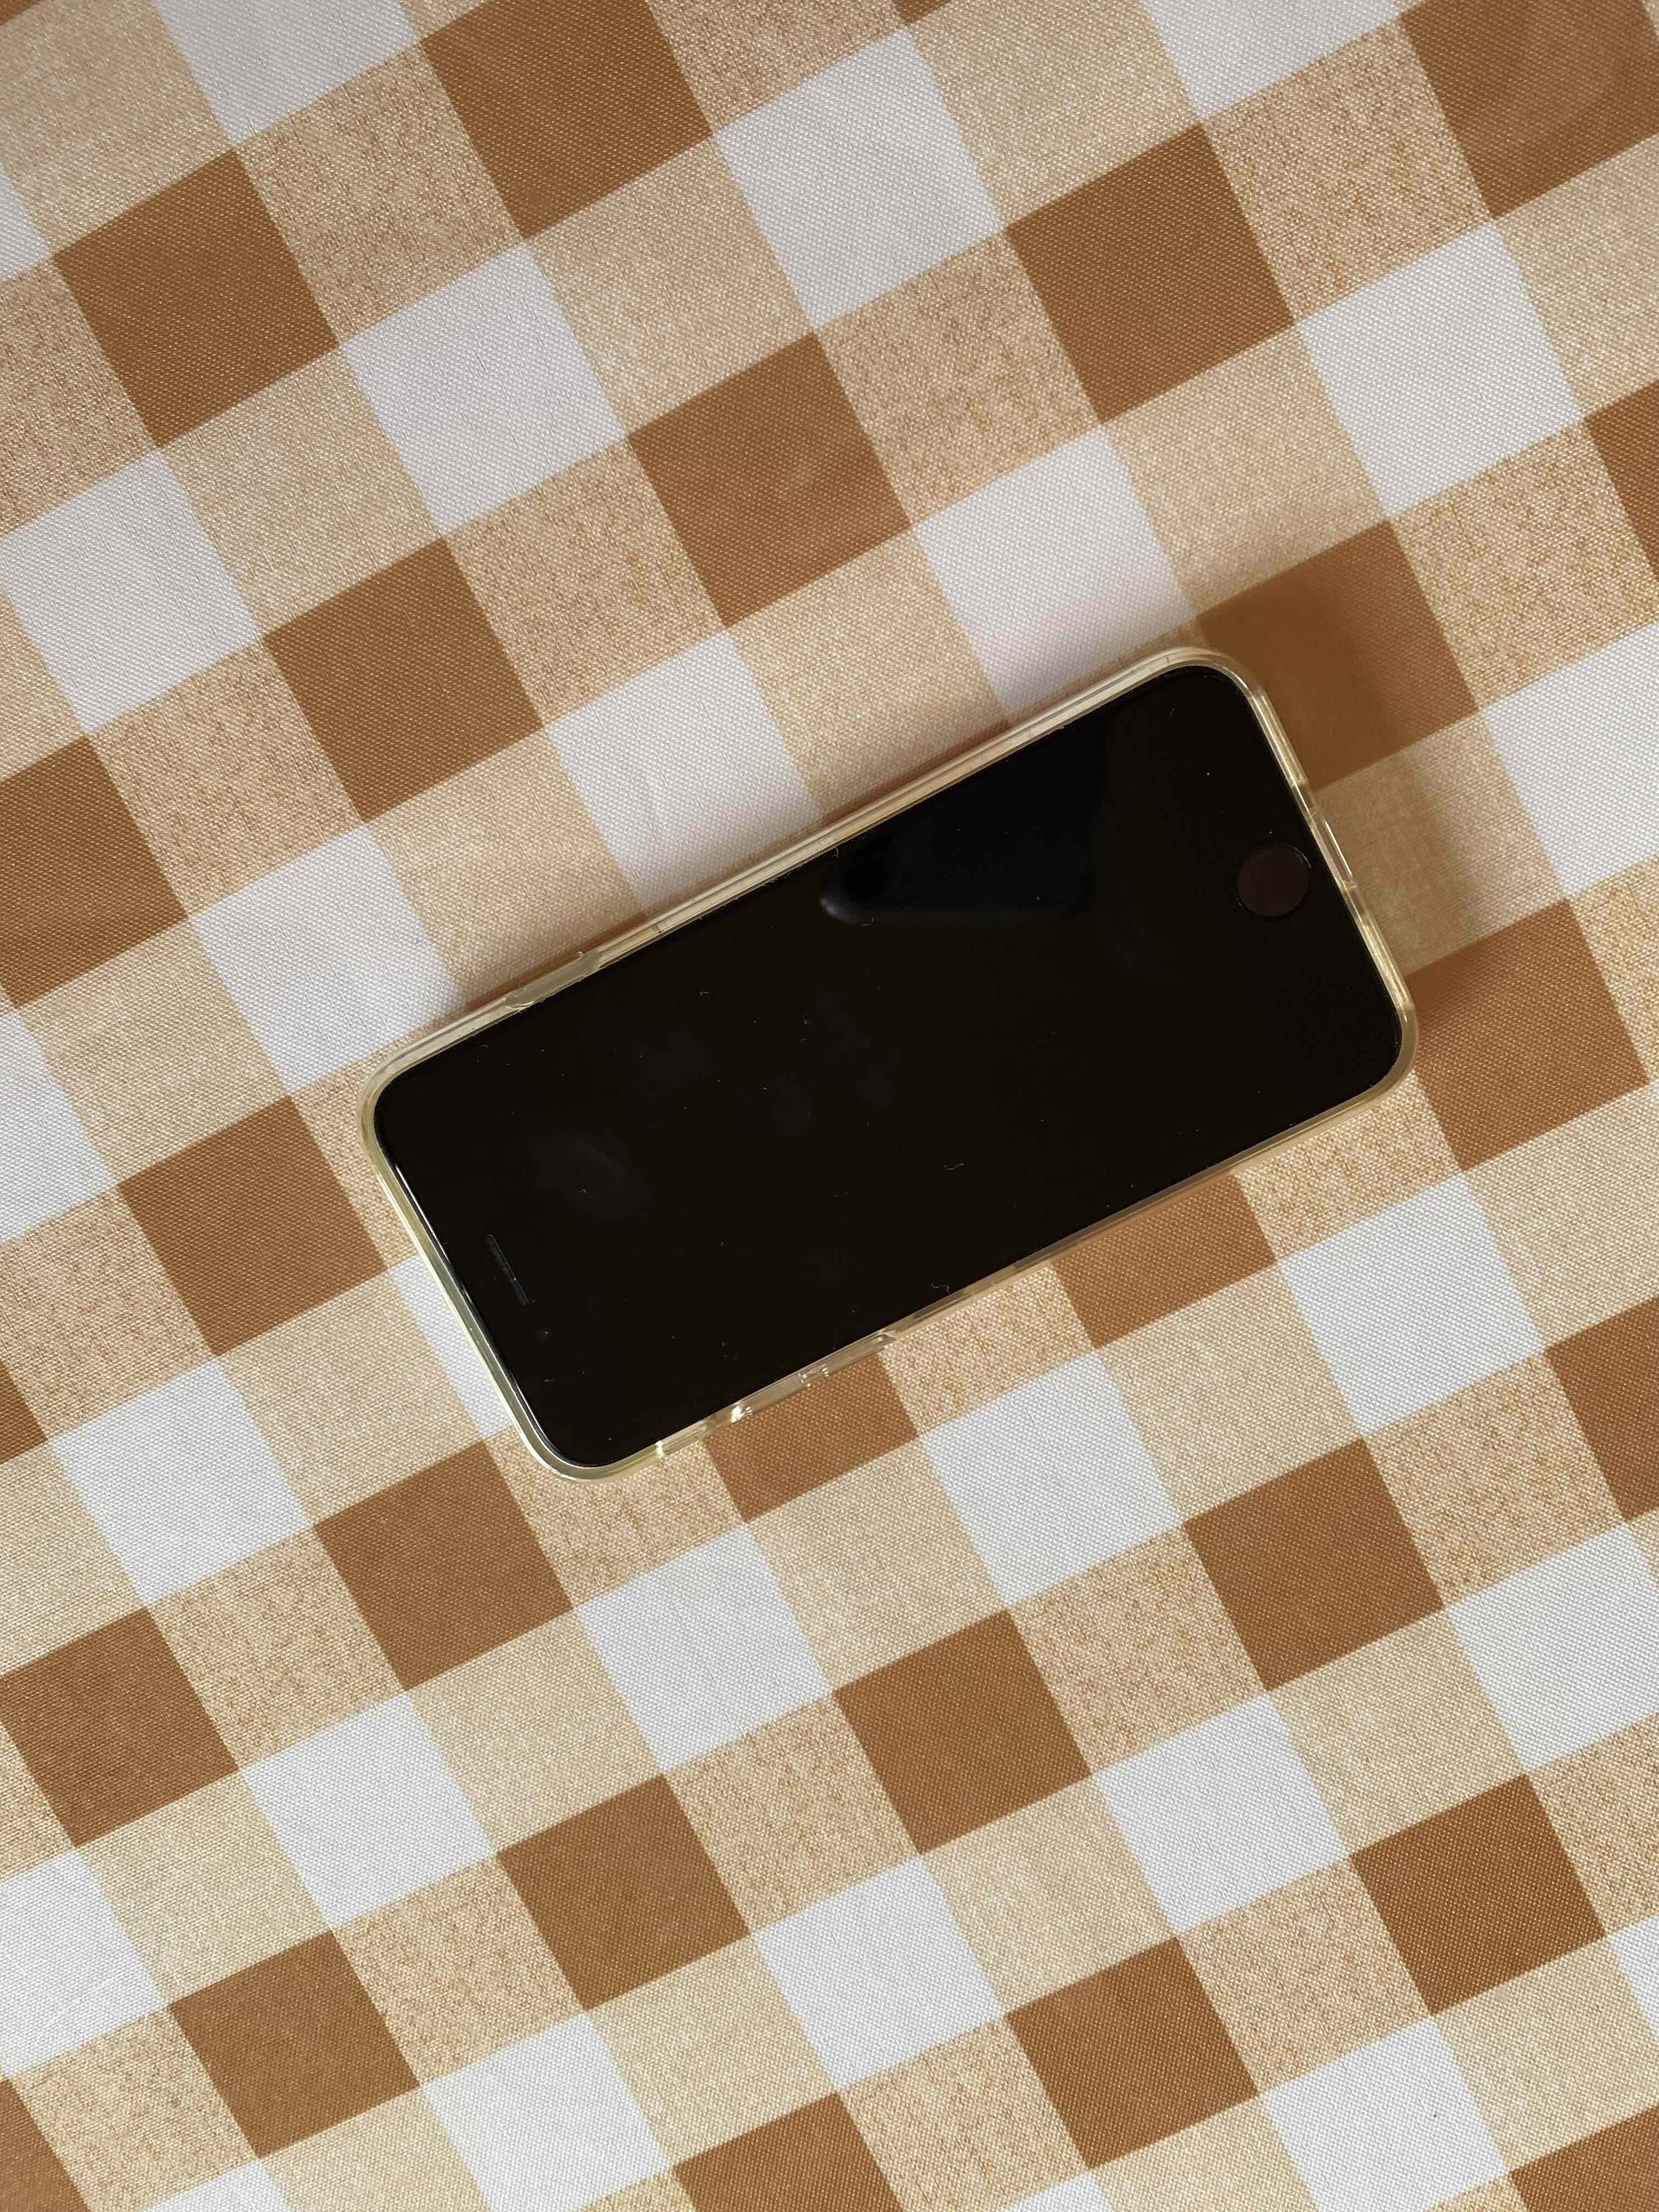Cell Phone: (357, 669, 1412, 1480)
